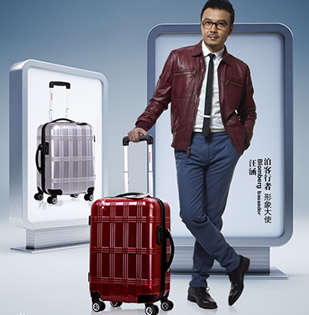luggage: (34, 81, 96, 204)
